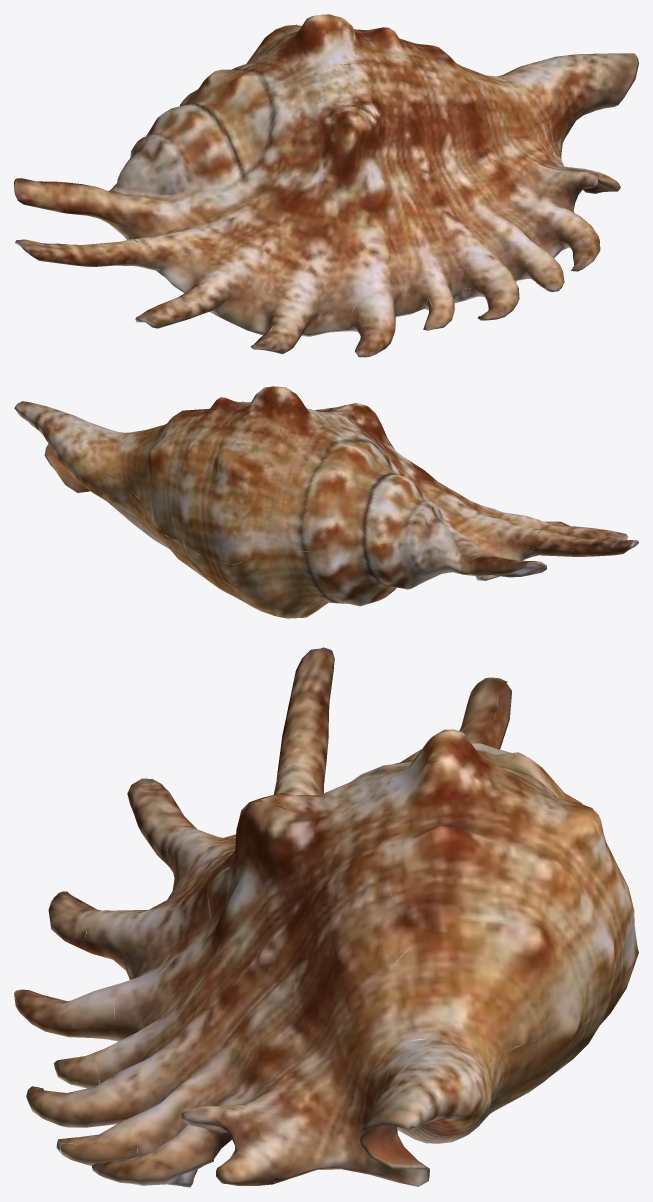
The model's file is lambis_shell.gltf.
The picture shows the model from 3 angles, top to bottom: view 1: azimuth 30°, elevation 25°; view 2: azimuth 150°, elevation 25°; view 3: azimuth 270°, elevation 25°; orthographic projection. The views are drawn at different scales.
Visible parts, largest first — view 1: lambis_shell; view 2: lambis_shell; view 3: lambis_shell.
Boxes of the visible parts, <box> form: lambis_shell: <box>14,14,638,357</box>; lambis_shell: <box>14,386,638,618</box>; lambis_shell: <box>14,647,638,1187</box>.
Size of the model in its own units: 0.1394 by 0.0465 by 0.0746.
1 material, 1 textured.
